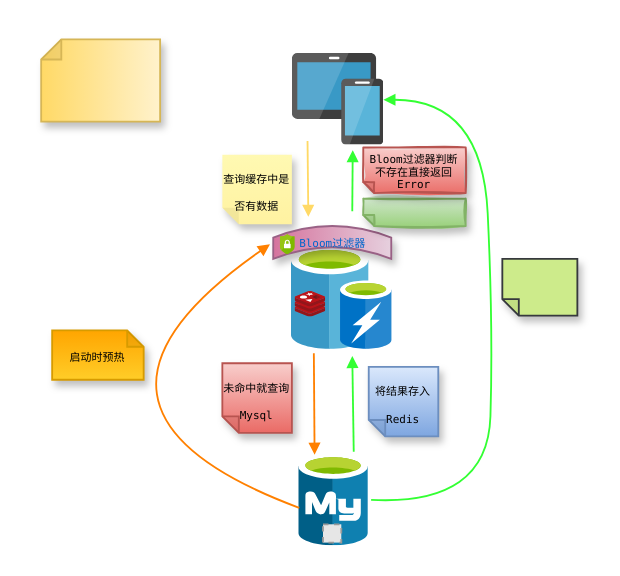
The diagram is 620 pixels wide and 576 high, and some of its shapes have lost their labels. Grey dashed boxes stand in for pictures. The shapes that lost their labels are listed below. From the top down, each one's centre as x and y in pixels, then its label:
[101,82]: 利用Bloom过滤器解决缓存穿透
[415,214]: 查询命中直接返回
[540,289]: 返回查询结果
